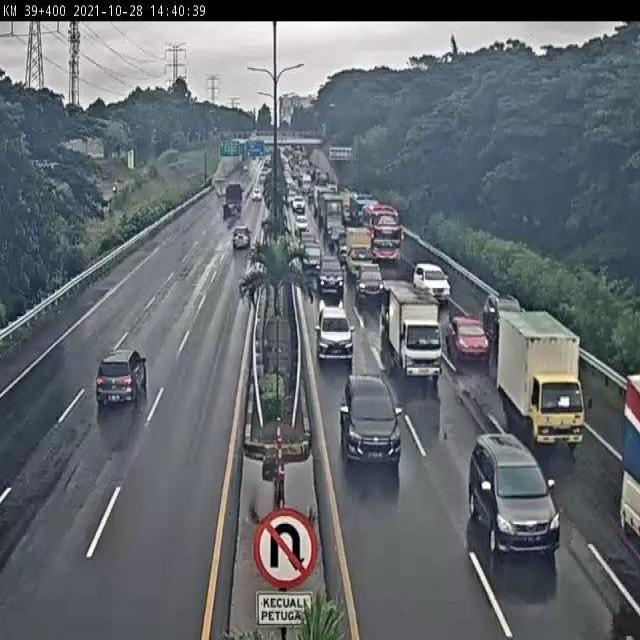Car: (468, 436, 560, 558), (339, 374, 403, 471), (94, 351, 150, 410), (315, 302, 354, 363), (446, 315, 489, 365), (412, 262, 452, 305), (354, 263, 385, 305), (317, 258, 345, 300), (301, 243, 323, 279), (232, 227, 250, 250), (294, 212, 308, 232), (292, 196, 305, 213), (262, 208, 270, 229), (251, 188, 262, 201)
Truck: (496, 311, 578, 422), (385, 280, 451, 382), (615, 372, 640, 543), (224, 183, 244, 221)
